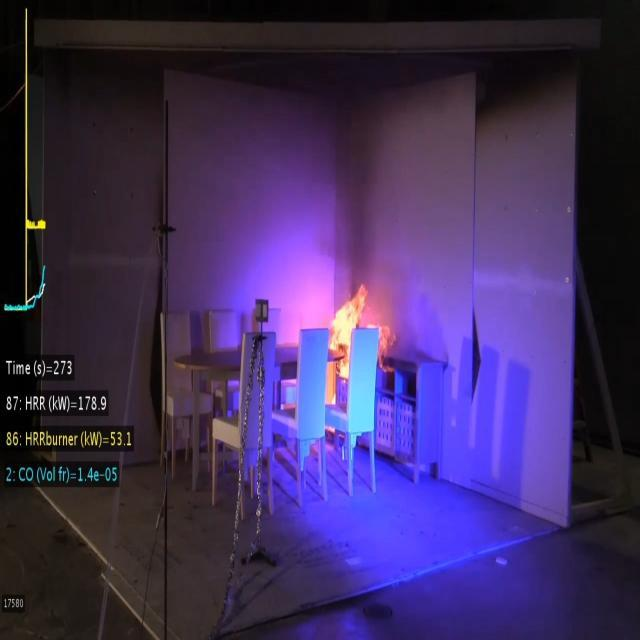Fire: (330, 288, 395, 368)
Smoke: (304, 94, 384, 270)
